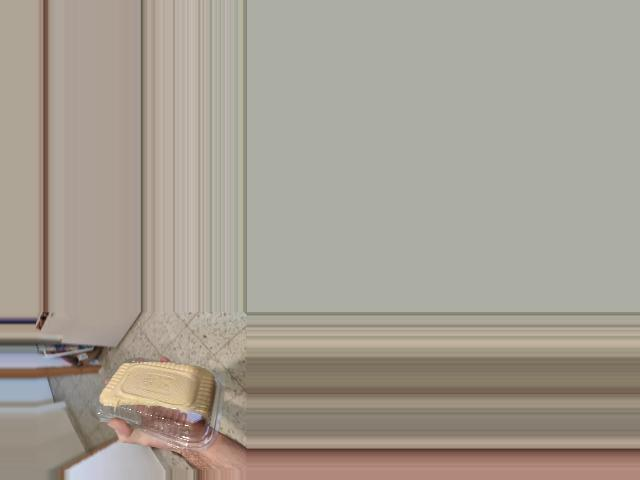cheese: (124, 372, 231, 425)
